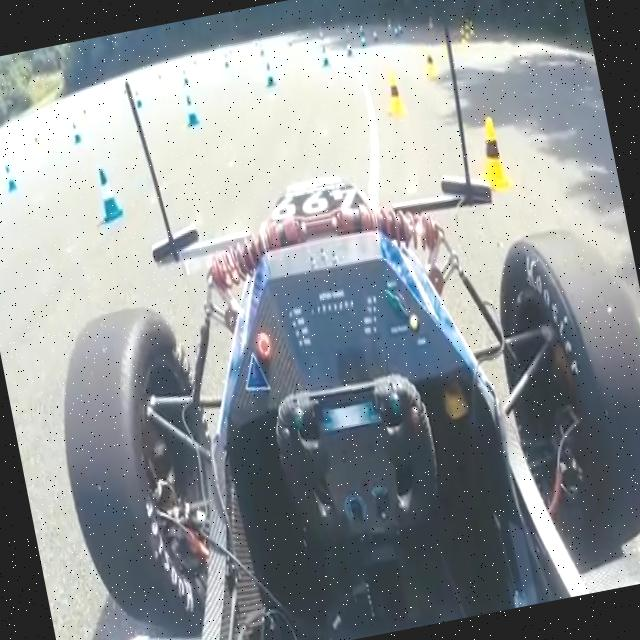blue_cone: (88, 156, 128, 229), (178, 90, 204, 133), (0, 160, 22, 197), (65, 115, 87, 148), (261, 61, 277, 90), (133, 87, 148, 116), (318, 42, 332, 66), (342, 36, 355, 59), (180, 67, 192, 89), (359, 33, 369, 51)
yellow_cone: (467, 107, 517, 194), (379, 68, 409, 122), (421, 47, 442, 85), (457, 26, 472, 52), (467, 16, 481, 42), (462, 20, 474, 45), (30, 131, 44, 151)
